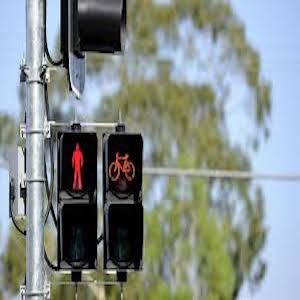red: (64, 141, 91, 193)
